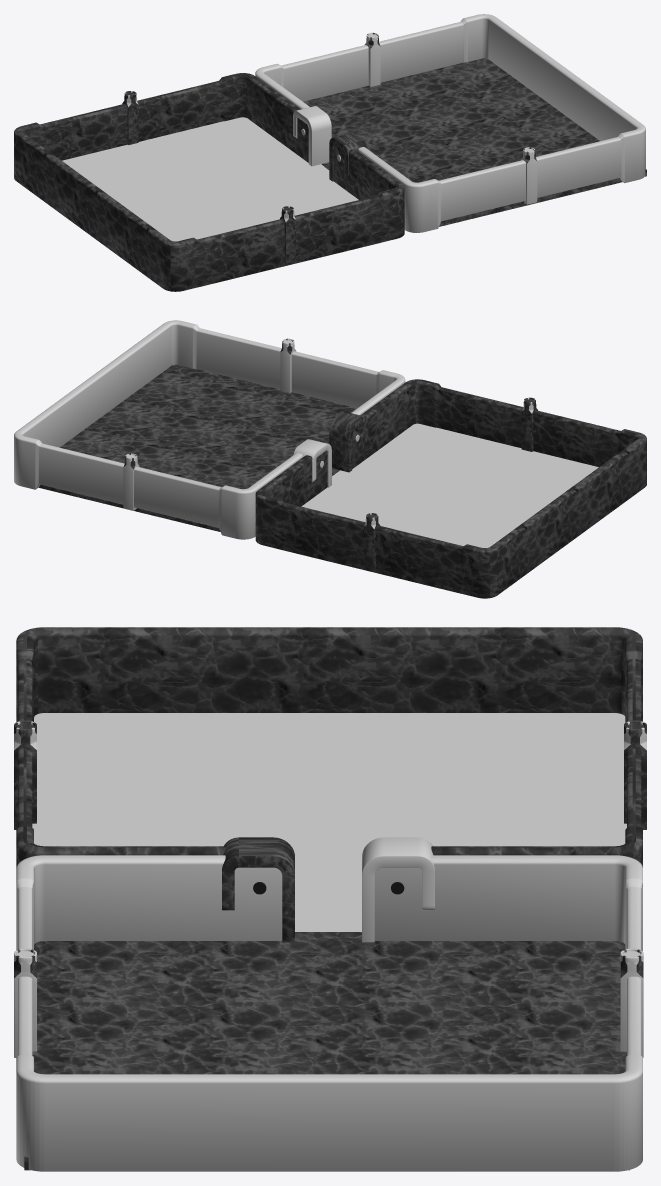
The model's file is Blocks 2.fbx.
3 renders of one model, top to bottom at view 1: azimuth 30°, elevation 25°; view 2: azimuth 150°, elevation 25°; view 3: azimuth 270°, elevation 25°, orthographic. The views are drawn at different scales.
Parts seen in each view (by area): view 1: Cube.003, Cube.010, Plane.001, Plane, Cube.009, Cube.014, Cube.012, Cube.011, Cube.013, Cube.008; view 2: Cube.003, Cube.010, Plane.001, Plane, Cube.014, Cube.009, Cube.008, Cube.011, Cube.013, Cube.012; view 3: Cube.010, Plane, Plane.001, Cube.003, Cube.009, Cube.014, Cube.013, Cube.008, Cube.011, Cube.012.
Part boxes in pixels (<box>): Cube.003: <box>14,73,404,291</box>; Cube.010: <box>255,14,645,232</box>; Plane.001: <box>303,58,646,232</box>; Plane: <box>62,117,358,241</box>; Cube.009: <box>293,106,331,166</box>; Cube.014: <box>329,133,367,181</box>; Cube.012: <box>521,147,537,204</box>; Cube.011: <box>280,206,295,263</box>; Cube.013: <box>364,32,380,86</box>; Cube.008: <box>122,91,138,144</box>; Cube.003: <box>255,379,646,598</box>; Cube.010: <box>14,320,405,539</box>; Plane.001: <box>39,364,357,531</box>; Plane: <box>301,423,598,547</box>; Cube.014: <box>329,412,367,472</box>; Cube.009: <box>293,439,331,487</box>; Cube.008: <box>364,513,380,570</box>; Cube.011: <box>521,397,537,451</box>; Cube.013: <box>123,453,139,510</box>; Cube.012: <box>280,338,296,392</box>; Cube.010: <box>16,855,642,1171</box>; Plane: <box>32,713,626,931</box>; Plane.001: <box>24,932,629,1170</box>; Cube.003: <box>16,627,642,867</box>; Cube.009: <box>362,837,434,942</box>; Cube.014: <box>222,837,294,942</box>; Cube.013: <box>620,948,643,1057</box>; Cube.008: <box>624,720,646,829</box>; Cube.011: <box>14,720,36,829</box>; Cube.012: <box>14,948,36,1057</box>.
Bounding box in the file's own units: 2731 × 300 × 1608.
